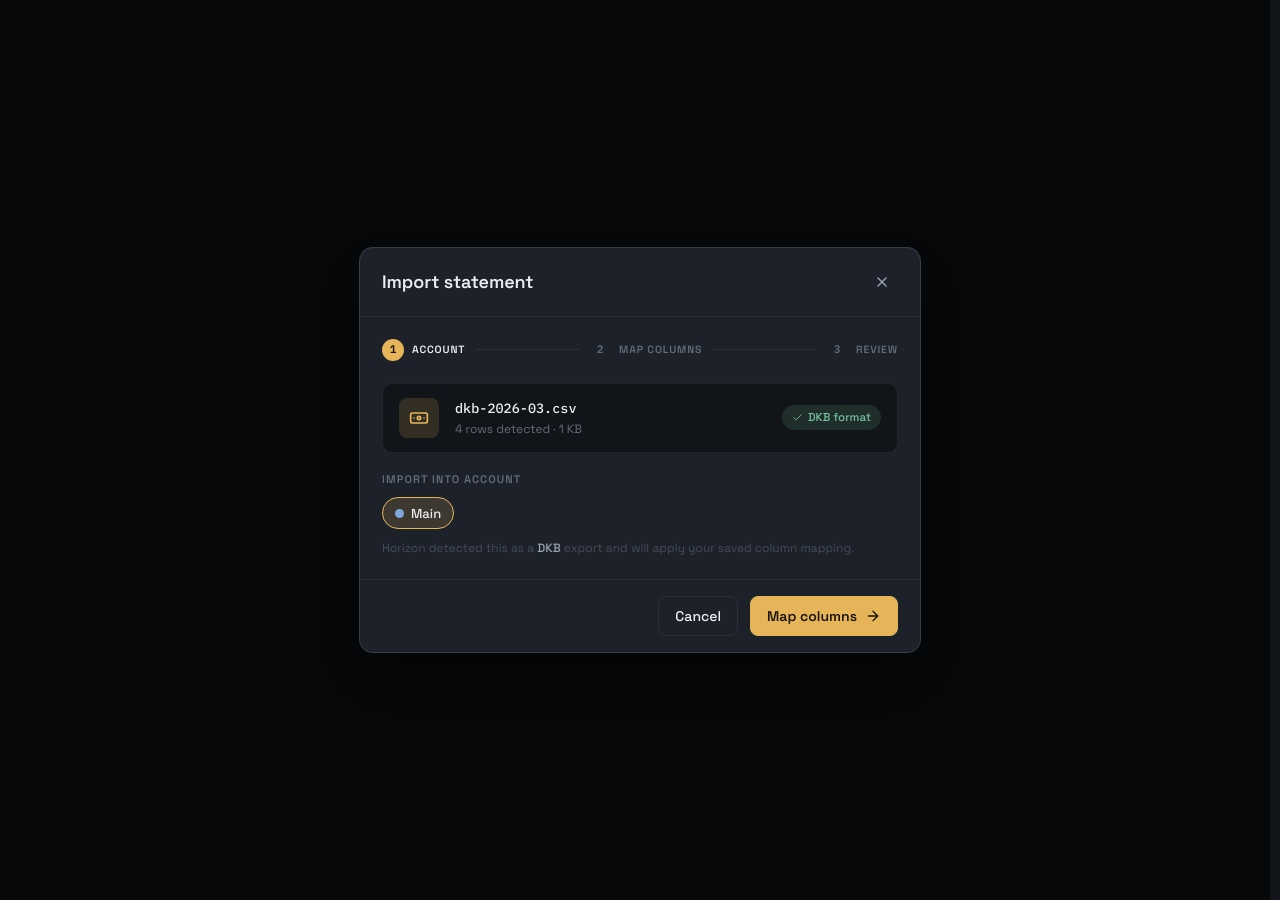
Test: ImportWizard — blocked-rows pill and Needs attention filter (#193) › collapses the table to just the blocked rows when Needs attention is on
Click the button "Map columns" at (824, 616), box [750,596,898,636]
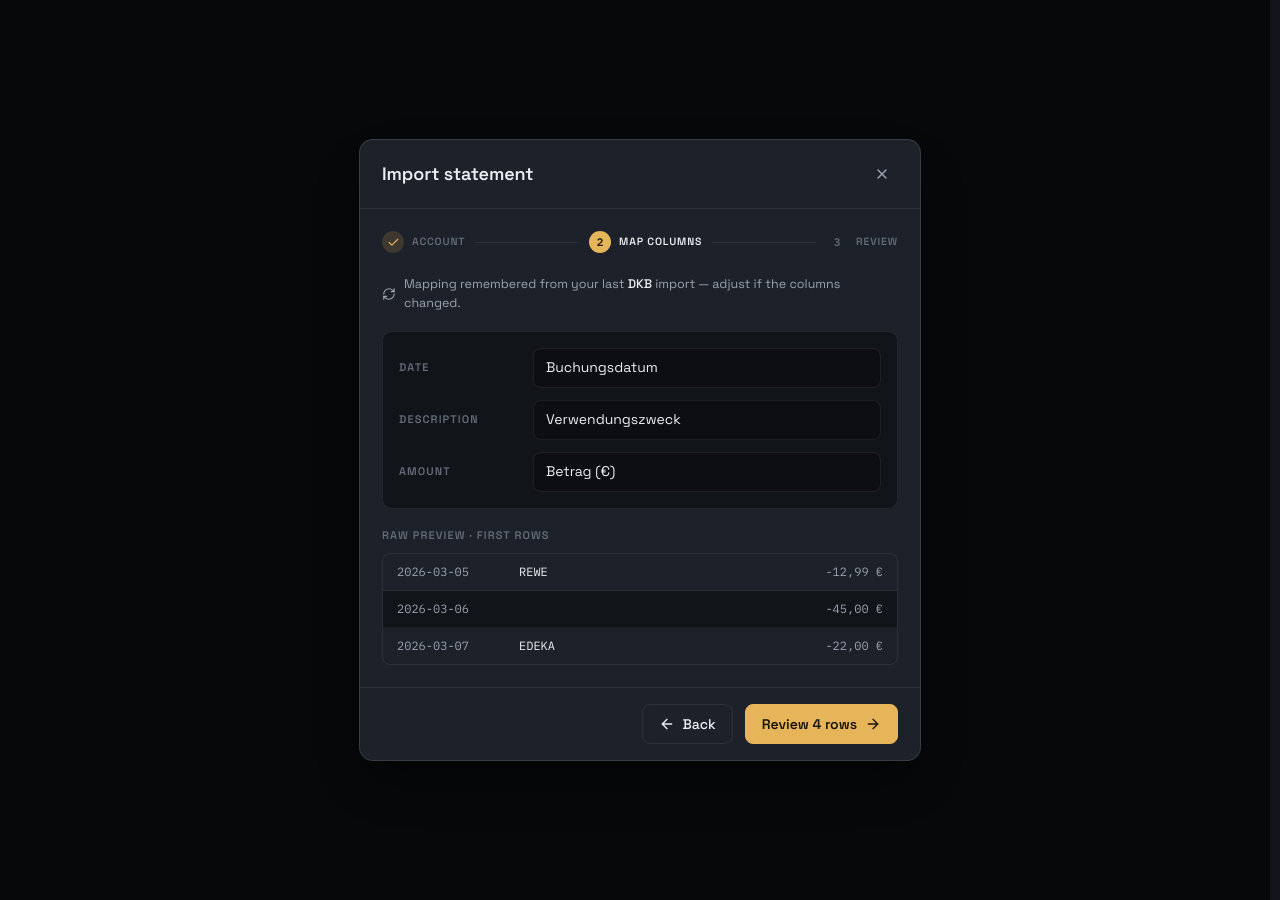
Click the button "Review 4 rows" at (821, 724), box [745,704,898,744]
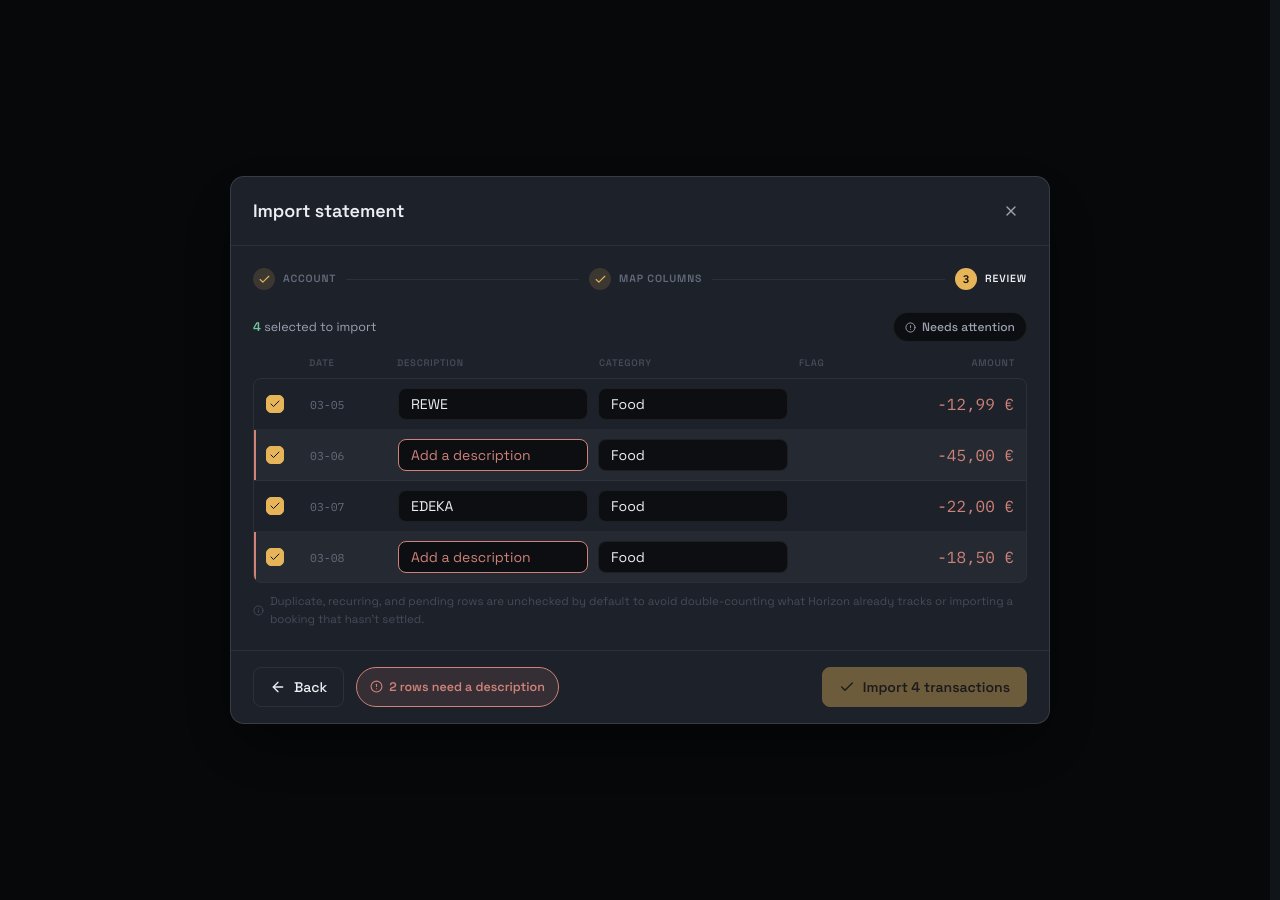
Expected: the number of fields named "description" is 4, [398,388,588,420]; [398,439,588,471]; [398,490,588,522]; [398,541,588,573]
Click the button "Needs attention" at (960, 327), box [893,312,1027,342]
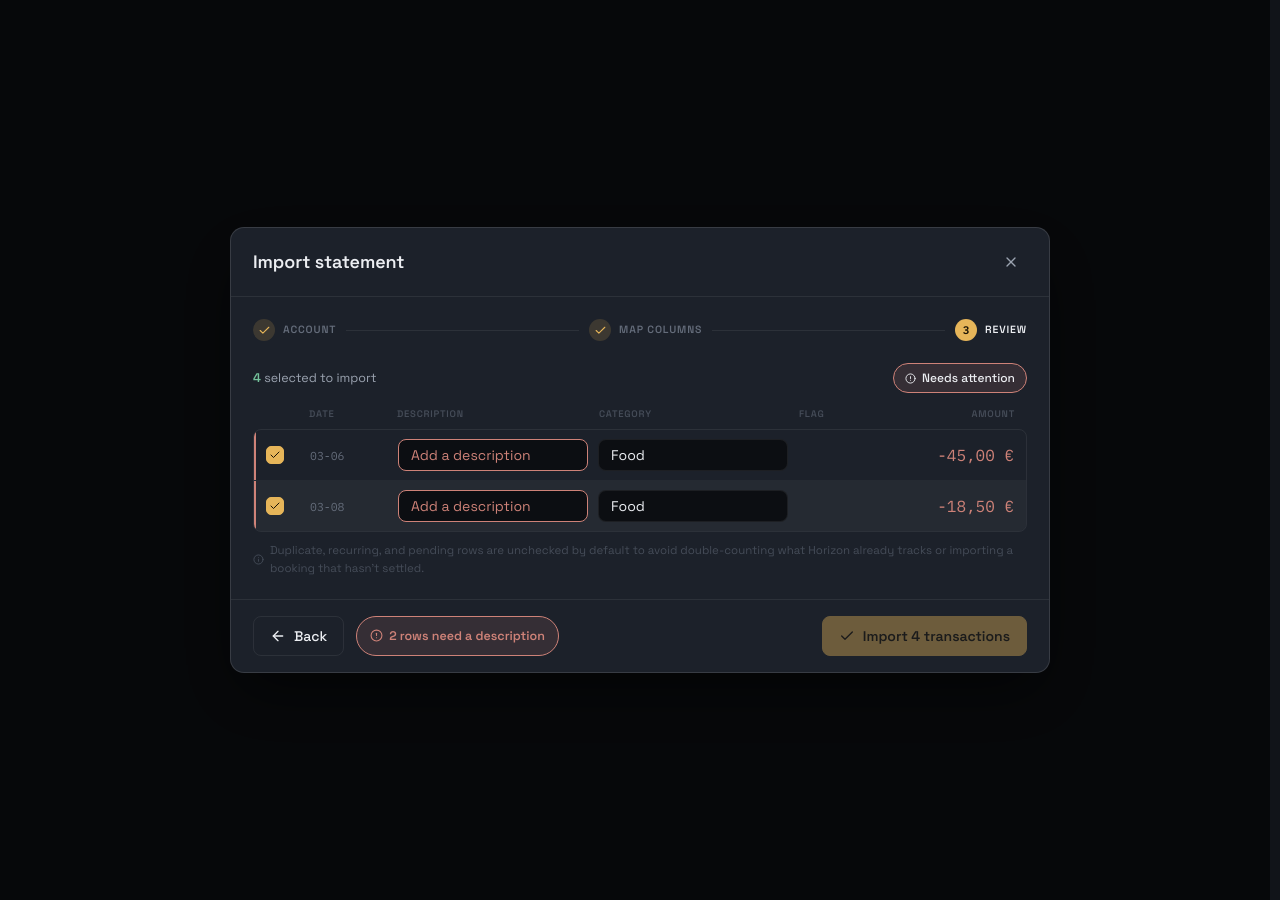
Expected: the field labelled "Add a description" next to "03-06" is empty, [398,439,588,471]
Expected: the field labelled "Add a description" next to "03-08" is empty, [398,490,588,522]
Expected: the number of fields labelled "Add a description" is 2, [398,439,588,471]; [398,490,588,522]
